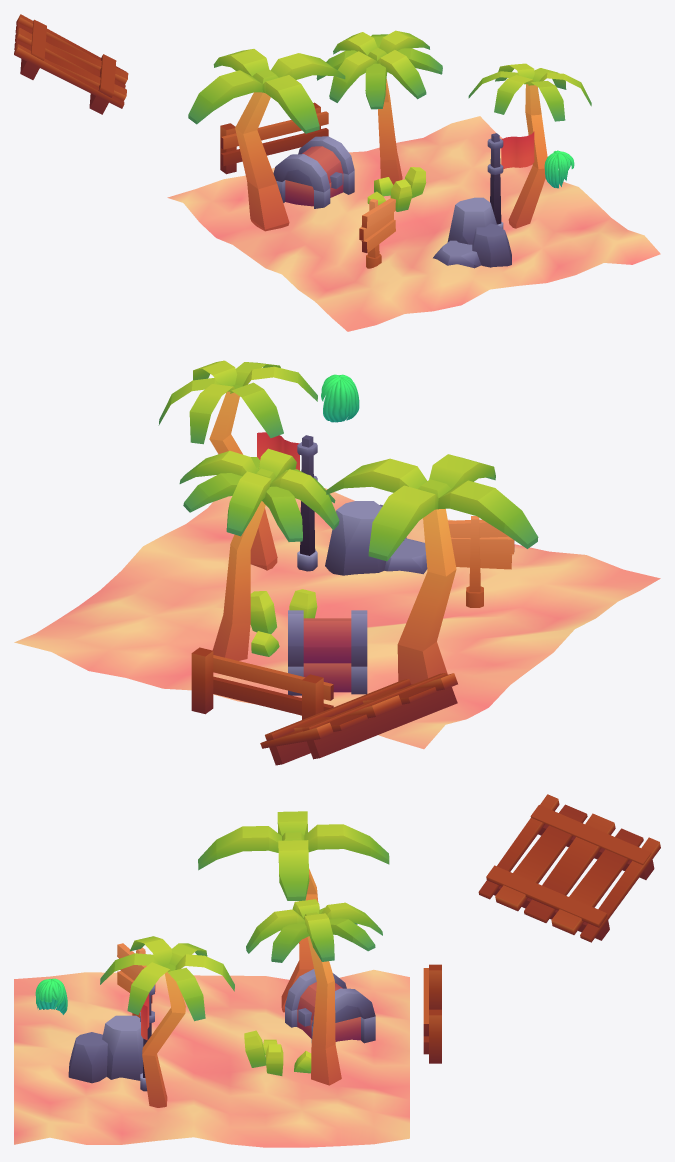
The model's file is scenarios.glb.
3 renders of one model, top to bottom at view 1: azimuth 30°, elevation 25°; view 2: azimuth 150°, elevation 25°; view 3: azimuth 270°, elevation 25°, orthographic. The views are drawn at different scales.
Visible parts, largest first — view 1: Plane.002, tree_palmShort.001, platform-fortified, tree_palmBend.001, rocks, leafs.002, lid, fence-straight, flag, leafs.003, sign, grass (+3 smaller); view 2: Plane.002, tree_palmShort.001, platform-fortified, tree_palmBend.001, fence-straight, leafs.002, rocks, lid, tree_palmDetailedTall, sign, leafs.003, flag (+3 smaller); view 3: Plane.002, platform-fortified, tree_palmShort.001, tree_palmBend.001, rocks, leafs.002, tree_palmDetailedTall, lid, fence-straight, leafs.003, grass, chest (+3 smaller).
Boxes of the visible parts, <box> form: Plane.002: <box>167,116,660,331</box>; tree_palmShort.001: <box>188,49,345,231</box>; platform-fortified: <box>14,14,128,114</box>; tree_palmBend.001: <box>468,63,591,228</box>; rocks: <box>433,197,511,268</box>; leafs.002: <box>329,30,429,102</box>; lid: <box>273,136,354,192</box>; fence-straight: <box>220,102,328,174</box>; flag: <box>487,131,534,228</box>; leafs.003: <box>316,34,442,109</box>; sign: <box>359,198,395,268</box>; grass: <box>367,167,426,211</box>; Plane.002: <box>14,488,660,749</box>; tree_palmShort.001: <box>326,454,538,684</box>; platform-fortified: <box>260,672,457,765</box>; tree_palmBend.001: <box>158,360,317,570</box>; fence-straight: <box>191,647,333,719</box>; leafs.002: <box>179,448,339,536</box>; rocks: <box>325,501,427,575</box>; lid: <box>288,610,367,666</box>; tree_palmDetailedTall: <box>212,501,265,660</box>; sign: <box>448,516,514,607</box>; leafs.003: <box>183,457,335,541</box>; flag: <box>257,432,317,571</box>; Plane.002: <box>14,969,409,1147</box>; platform-fortified: <box>478,794,660,942</box>; tree_palmShort.001: <box>198,811,389,1012</box>; tree_palmBend.001: <box>100,936,234,1107</box>; rocks: <box>68,1015,143,1083</box>; leafs.002: <box>246,899,382,961</box>; tree_palmDetailedTall: <box>307,936,341,1085</box>; lid: <box>285,969,375,1026</box>; fence-straight: <box>423,964,441,1063</box>; leafs.003: <box>271,907,375,962</box>; grass: <box>244,1030,311,1075</box>; chest: <box>285,1006,375,1043</box>.
Size of the model in its own units: 3.83 by 1.56 by 4.87.
1 material, 1 textured.
